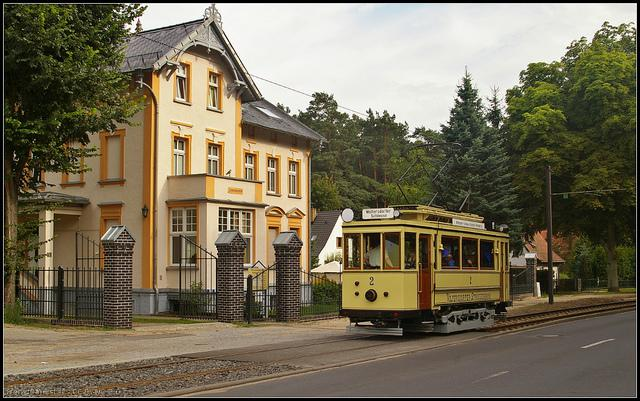Train: (344, 205, 515, 341)
